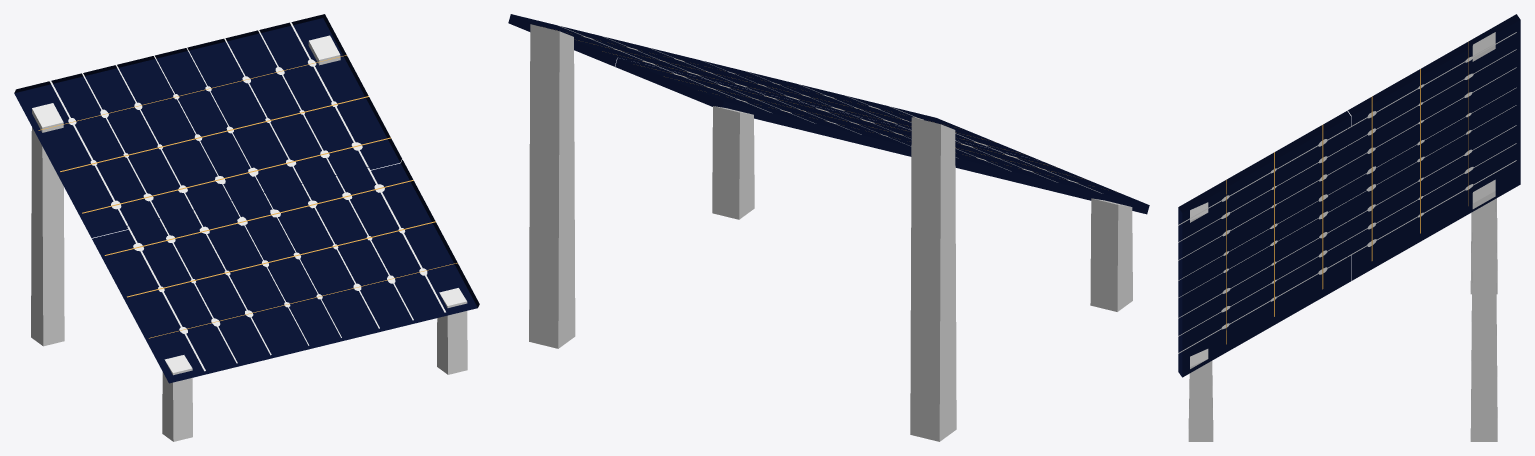
File: zonnepanelen.fbx
The picture shows the model from 3 angles, left to right: view 1: azimuth 30°, elevation 25°; view 2: azimuth 150°, elevation 25°; view 3: azimuth 270°, elevation 25°; orthographic projection. The views are drawn at different scales.
Visible parts, largest first — view 1: Cube, Cube.002, Cube.001; view 2: Cube.002, Cube, Cube.001; view 3: Cube, Cube.002, Cube.001.
Boxes of the visible parts, box(x1,y1,x2,y2) form: Cube: box(14, 14, 479, 383); Cube.002: box(31, 35, 340, 346); Cube.001: box(162, 288, 467, 441); Cube.002: box(529, 24, 956, 441); Cube: box(508, 14, 1149, 214); Cube.001: box(712, 106, 1132, 311); Cube: box(1178, 14, 1520, 377); Cube.002: box(1470, 32, 1497, 441); Cube.001: box(1188, 202, 1213, 441).
Bounding box in the file's own units: 195 × 147 × 171.
